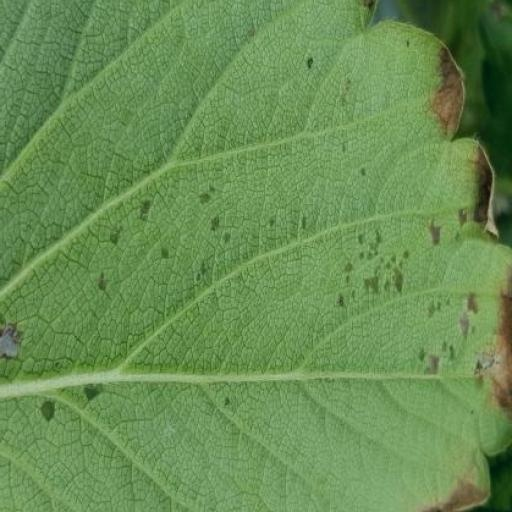Angular Leafspot: (0, 0, 511, 478)
